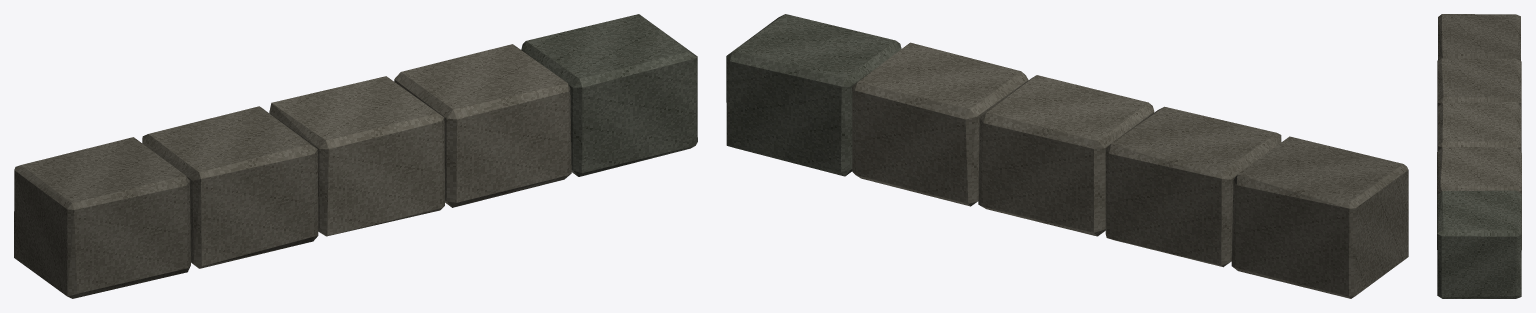
File: env_ruin_walls_12_ground_course.glb
3 renders of one model, left to right at view 1: azimuth 30°, elevation 25°; view 2: azimuth 150°, elevation 25°; view 3: azimuth 270°, elevation 25°, orthographic. The views are drawn at different scales.
Bounding box in the file's own units: 1.99 × 0.292 × 0.3252.
Materials: 1 (1 with a texture image).
